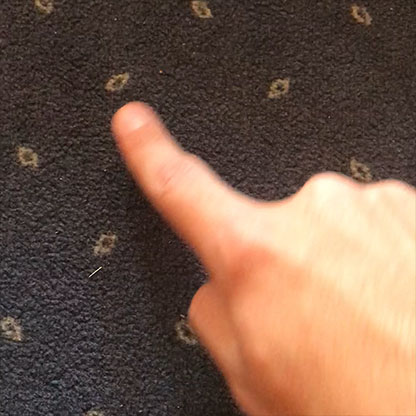fingertip: (102, 98, 161, 148)
